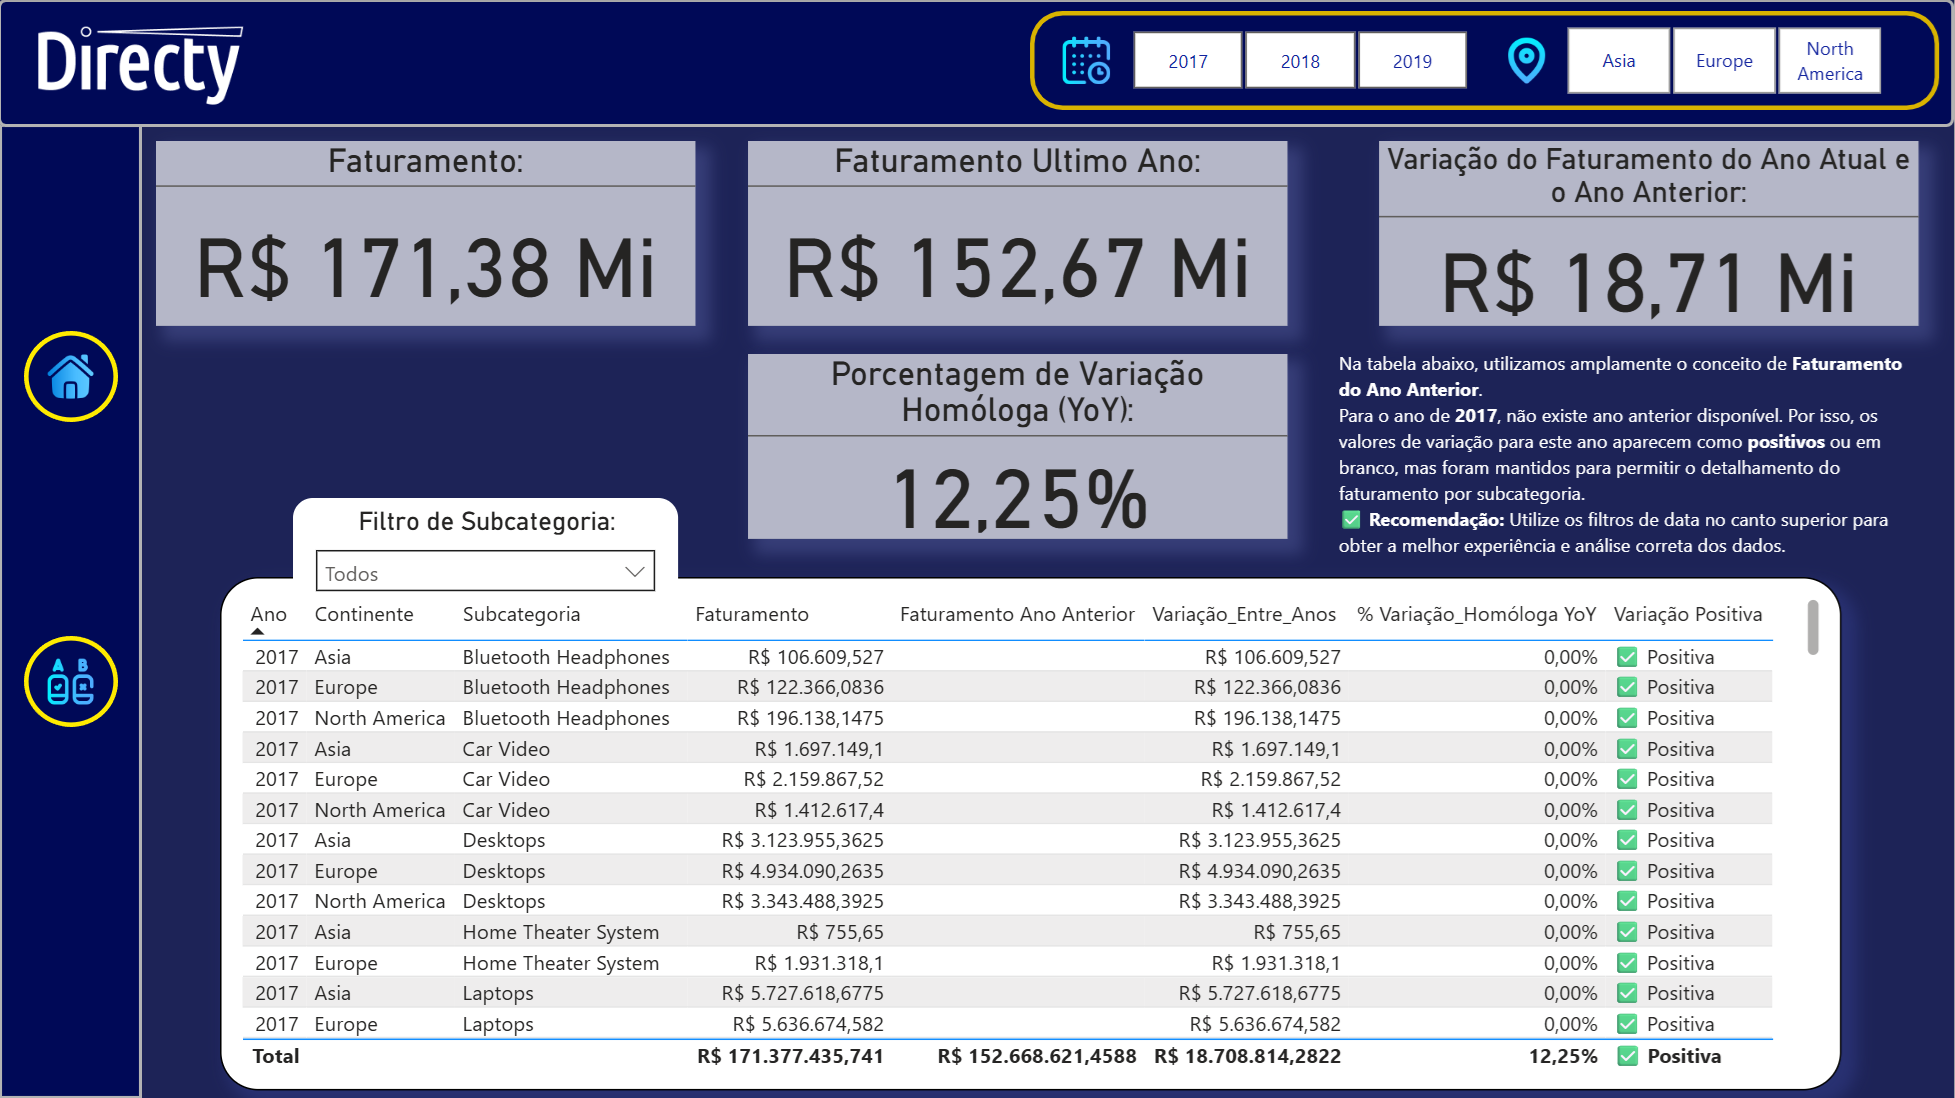

Layout of this report page (visuals, bound fields, positions):
{"tool":"powerbi","page":{"name":"Comparativo","canvas":[1280,720],"ordinal":1},"visuals":[{"type":"shape","box":[0.7,81.8,93.6,638],"z":0},{"type":"shape","box":[0,0,1280,83.8],"z":1000},{"type":"shape","box":[675.3,7.9,594.8,64.8],"z":2000},{"type":"image","box":[691.7,19.6,40.6,40.6],"z":3000},{"type":"image","box":[980.3,20.3,39.9,39.9],"z":4000},{"type":"slicer","fields":{"Values":["dCalendário.Ano"]},"box":[717.2,14.4,268.3,51],"z":5000},{"type":"slicer","fields":{"Values":["Localizacao.Continente"]},"box":[1001.2,11.8,255.2,56.9],"z":6000},{"type":"image","box":[14.4,13.1,157.7,60.9],"z":7000},{"type":"card","title":"Faturamento: ","fields":{"Values":["Medidas.Faturamento"]},"box":[103.4,92.9,352.7,121.1],"z":8000},{"type":"card","title":"Faturamento Ultimo Ano: ","fields":{"Values":["Medidas.Faturamento Ano Anterior"]},"box":[490.7,92.9,352.6,120.8],"z":9000},{"type":"card","title":"Porcentagem de Variação Homóloga  (YoY): ","fields":{"Values":["Medidas.% Variação_Homóloga YoY"]},"box":[490.8,232.3,352.7,121.1],"z":10000},{"type":"card","title":"Variação do Faturamento do Ano Atual e o Ano Anterior: ","fields":{"Values":["Medidas.Taxa_Variação_Homóloga_YoY"]},"box":[904,92.9,352.6,120.8],"z":11000},{"type":"tableEx","title":"Faturamento das maiores Subcategorias por Continente","fields":{"Values":["dCalendário.Ano","Localizacao.Continente","Subcategoria.Subcategoria","Medidas.Faturamento","Medidas.Faturamento Ano Anterior","Medidas.Variação_Entre_Anos","Medidas.% Variação_Homóloga YoY","Medidas.Variação Positiva"]},"box":[145,378,1060.8,335.8],"z":12000},{"type":"slicer","title":"Filtro de Subcategoria:","fields":{"Values":["Subcategoria.Subcategoria"]},"box":[193.3,326.5,251.6,66.3],"z":14000},{"type":"textbox","box":[872.3,223.8,384.1,149.9],"z":15000},{"type":"shape","box":[17,416.9,61.5,59.6],"z":15001},{"type":"image","box":[27.5,426.7,39.9,39.9],"z":15002},{"type":"actionButton","box":[17,413.6,61.5,62.8],"z":15003},{"type":"shape","box":[17,217.3,61.5,59.6],"z":15004},{"type":"image","box":[27.5,227.1,39.9,39.9],"z":15005},{"type":"actionButton","box":[17,214,61.5,62.8],"z":15006}]}

Visuals, with their boxes in screenshot pixels (x1, y1, x2, y2), scaled from the page's 1280x720 canvas onto the 1955x1098 screenshot:
shape: bbox=[1, 125, 144, 1097]
shape: bbox=[0, 0, 1954, 128]
shape: bbox=[1031, 12, 1940, 111]
image: bbox=[1056, 30, 1118, 92]
image: bbox=[1497, 31, 1558, 92]
slicer - dCalendário.Ano: bbox=[1095, 22, 1505, 100]
slicer - Localizacao.Continente: bbox=[1529, 18, 1919, 105]
image: bbox=[22, 20, 263, 113]
"Faturamento: " card: bbox=[158, 142, 697, 326]
"Faturamento Ultimo Ano: " card: bbox=[749, 142, 1288, 326]
"Porcentagem de Variação Homóloga  (YoY): " card: bbox=[750, 354, 1288, 539]
"Variação do Faturamento do Ano Atual e o Ano Anterior: " card: bbox=[1381, 142, 1919, 326]
"Faturamento das maiores Subcategorias por Continente" tableEx: bbox=[221, 576, 1842, 1089]
"Filtro de Subcategoria:" slicer: bbox=[295, 498, 680, 599]
textbox: bbox=[1332, 341, 1919, 570]
shape: bbox=[26, 636, 120, 727]
image: bbox=[42, 651, 103, 712]
actionButton: bbox=[26, 631, 120, 727]
shape: bbox=[26, 331, 120, 422]
image: bbox=[42, 346, 103, 407]
actionButton: bbox=[26, 326, 120, 422]
